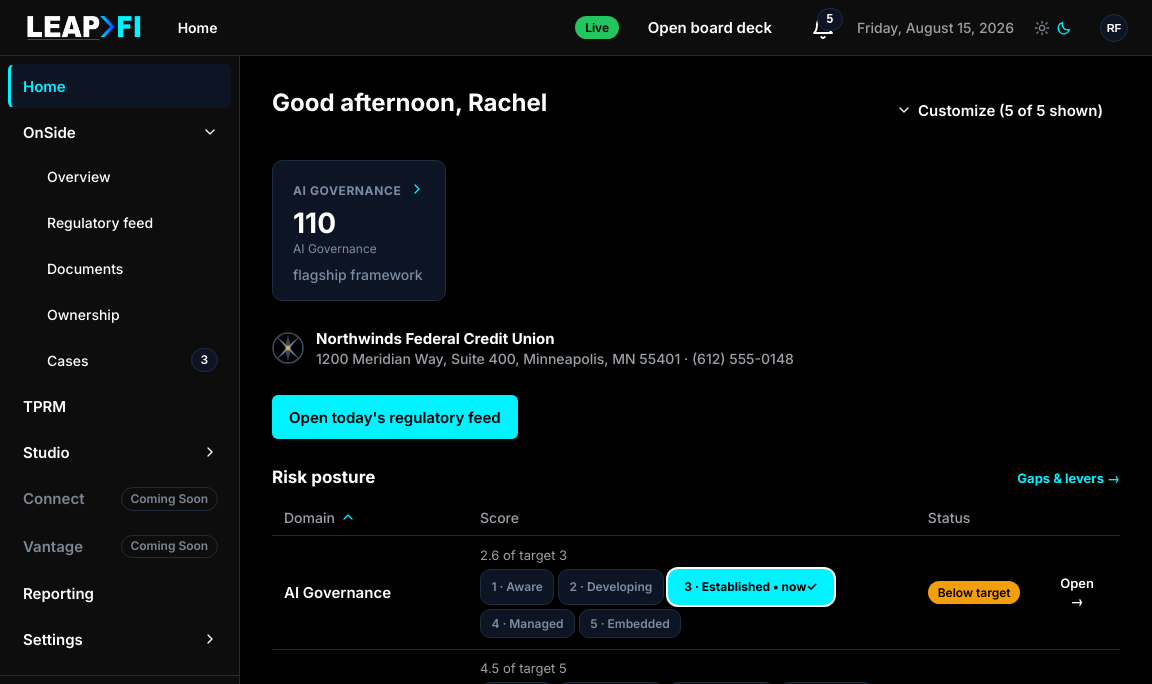
it: bell through the shell at boot (PI2-D45 USER OVERRIDE: 5 board/exec-tier cases boot routed to the CRO with seeded notifications — supersedes the prior empty-bel › boot bell shows exactly 5 unread items for the default CRO persona, each the shipped "Approval needed" wording
Click the button named "Notifications, 5 unread". click: (823,28)
box: [801,6,845,50]
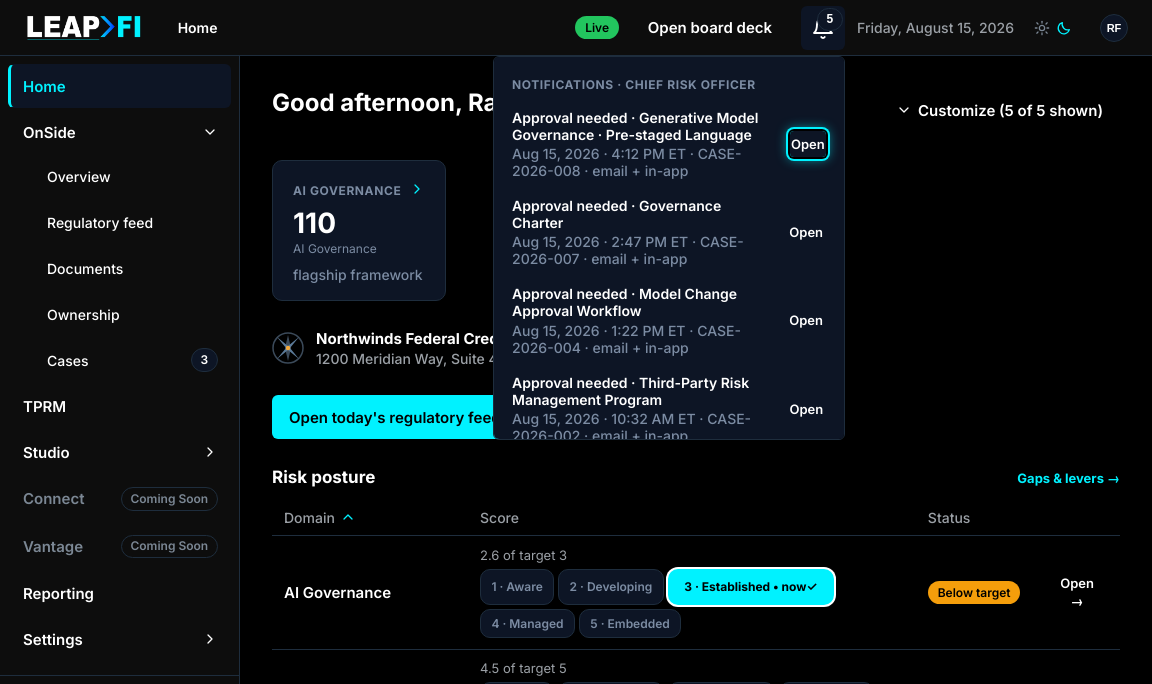
Result: the number of buttons "Open" is 5
